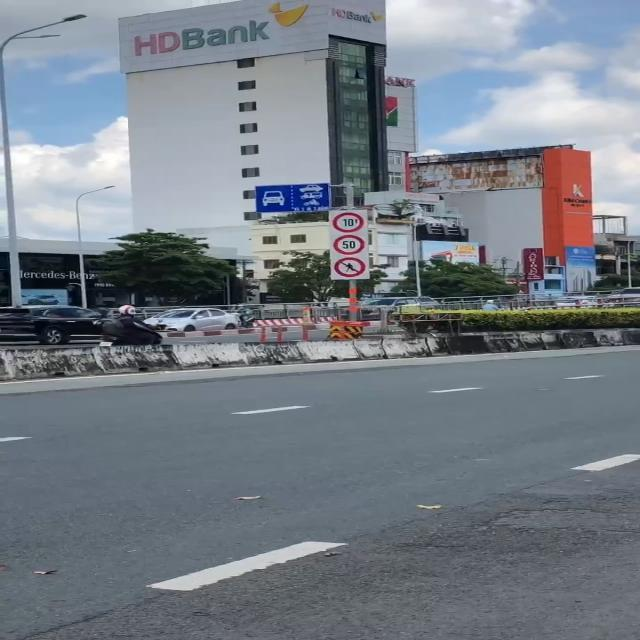Bien bao cam nguoi di bo: (331, 255, 370, 278)
Bien bao toc do toi da cho phep: (330, 234, 368, 256)
